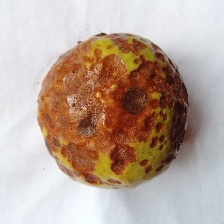guava: (12, 1, 192, 192)
